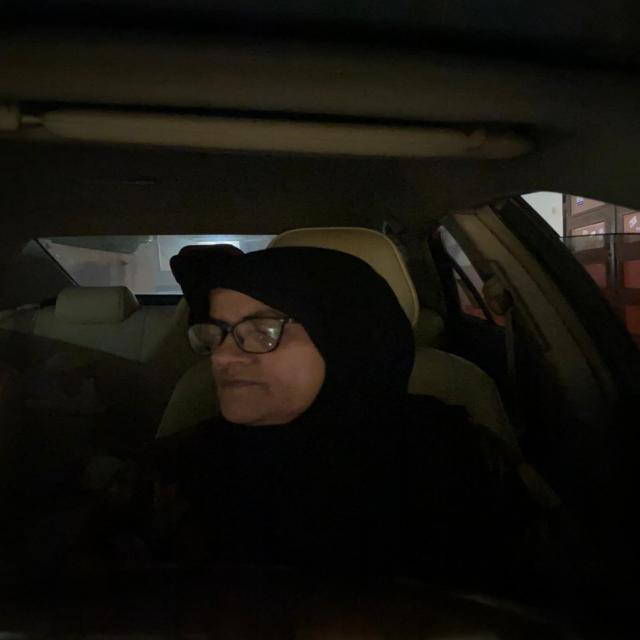LeftRight: (189, 244, 415, 432)
